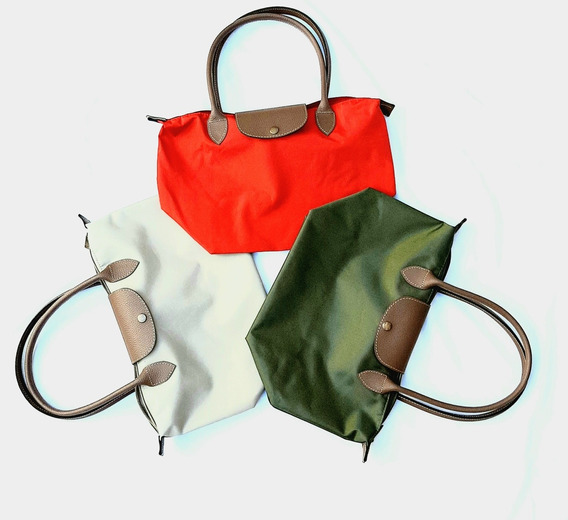cartera: (244, 189, 533, 461), (15, 202, 285, 455), (145, 8, 400, 256)
